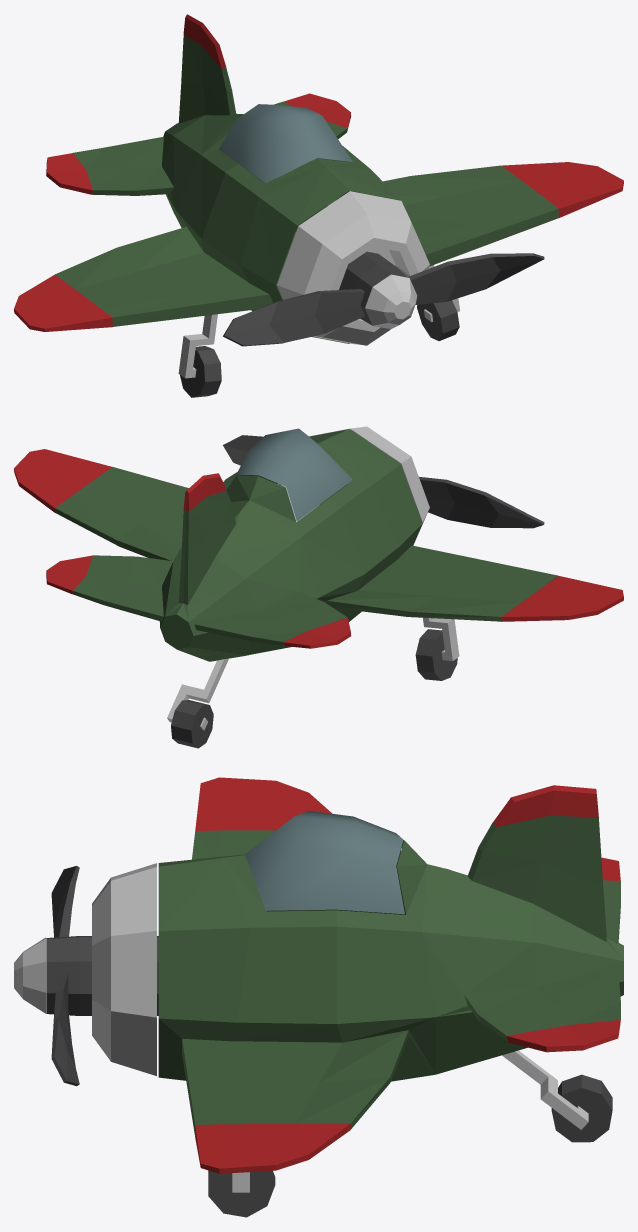
3 views of the same model, one above another, from view 1: azimuth 30°, elevation 25°; view 2: azimuth 150°, elevation 25°; view 3: azimuth 270°, elevation 25° (orthographic). The views are drawn at different scales.
Parts seen in each view (by area): view 1: Plane_Body, Plane_Body_Trim, Propellor, Plane_Body_Front, Plane_Canopy, Landing_Gear_Left.001, Propeller cap, Landing_Gear_Left; view 2: Plane_Body, Plane_Body_Trim, Plane_Canopy, Propellor, Landing_Gear_Back, Landing_Gear_Left.001, Plane_Body_Front; view 3: Plane_Body, Plane_Body_Trim, Plane_Canopy, Plane_Body_Front, Propellor, Landing_Gear_Back, Landing_Gear_Left, Propeller cap.
Boxes of the visible parts, box(x1,y1,x2,y2) form: Plane_Body: box(55, 34, 558, 343); Plane_Body_Trim: box(14, 14, 623, 331); Propellor: box(223, 251, 544, 346); Plane_Body_Front: box(277, 191, 429, 345); Plane_Canopy: box(219, 104, 352, 183); Landing_Gear_Left.001: box(178, 314, 221, 397); Propeller cap: box(365, 274, 417, 329); Landing_Gear_Left: box(417, 265, 459, 340); Plane_Body: box(55, 429, 558, 661); Plane_Body_Trim: box(14, 449, 623, 648); Plane_Canopy: box(227, 428, 352, 521); Propellor: box(223, 435, 544, 528); Landing_Gear_Back: box(167, 658, 228, 748); Landing_Gear_Left.001: box(415, 617, 459, 680); Plane_Body_Front: box(278, 426, 429, 545); Plane_Body: box(158, 815, 623, 1136); Plane_Body_Trim: box(195, 777, 620, 1173); Plane_Canopy: box(245, 811, 404, 914); Plane_Body_Front: box(92, 863, 156, 1075); Propellor: box(46, 866, 158, 1086); Landing_Gear_Back: box(502, 1050, 612, 1142); Landing_Gear_Left: box(208, 1170, 275, 1217); Propeller cap: box(14, 937, 45, 1013).
Bounding box in the file's own units: 6.95 × 2.9 × 4.58.
